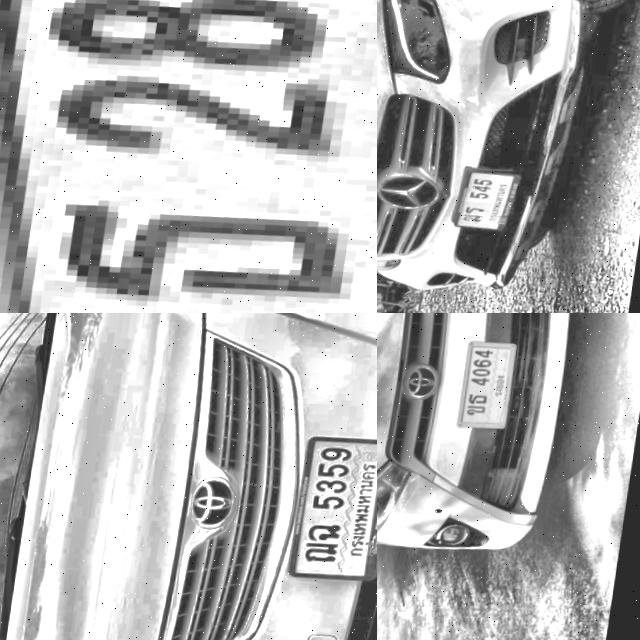license-plate: (0, 0, 377, 313), (282, 434, 377, 590), (455, 342, 523, 438), (453, 170, 523, 240)
